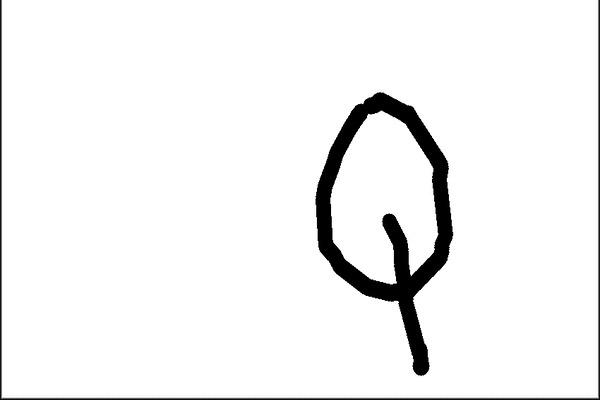Q: (301, 79, 459, 379)
